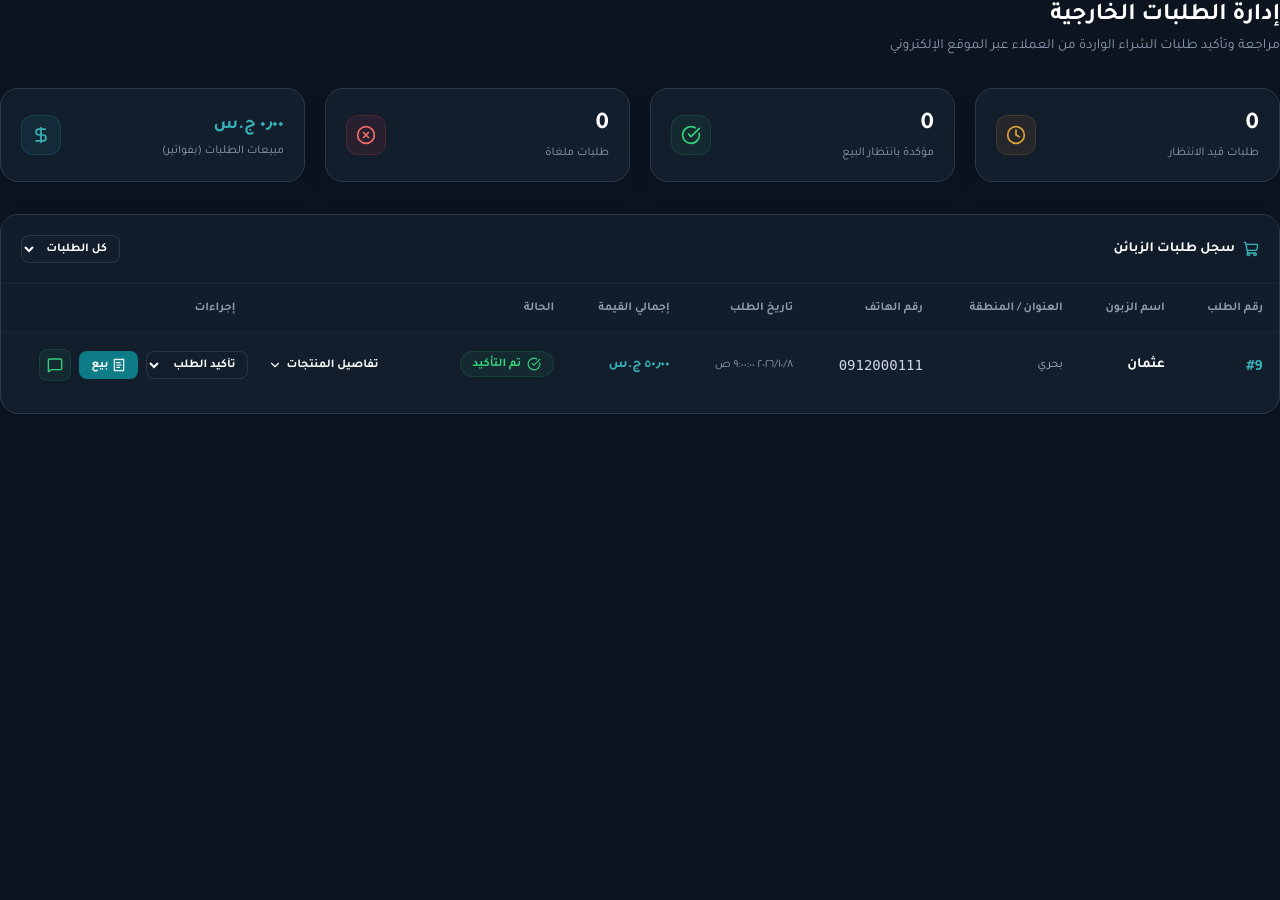
Test case: صفحة الطلبات الخارجية › رفض الخادم يظهر داخل النافذة ولا يغلق الطلب
The image size is (1280, 900).
Click the button "بيع". click: (109, 365)
box: [79,351,138,379]
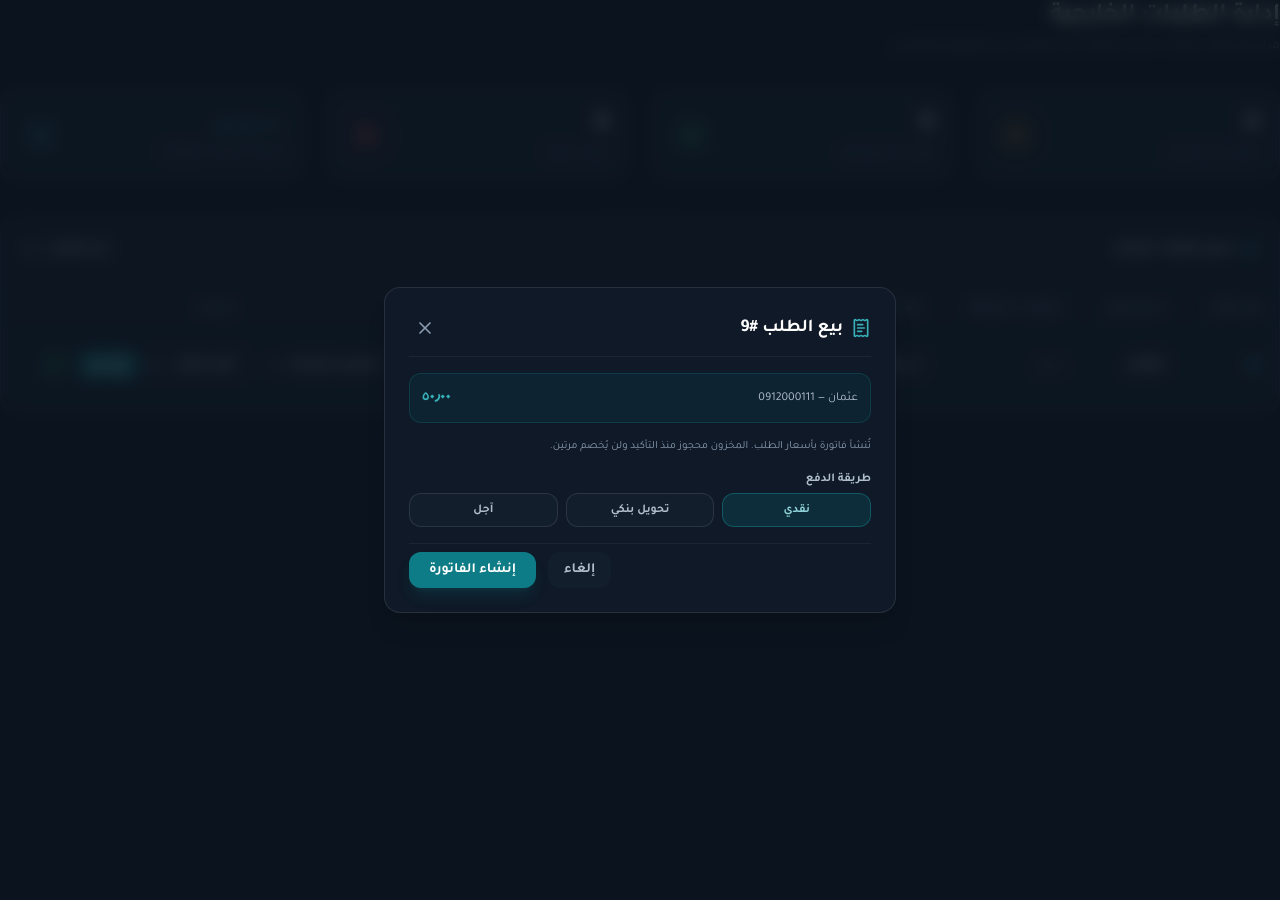
Click the radio button "آجل". click: (483, 510)
box: [409,493,558,527]
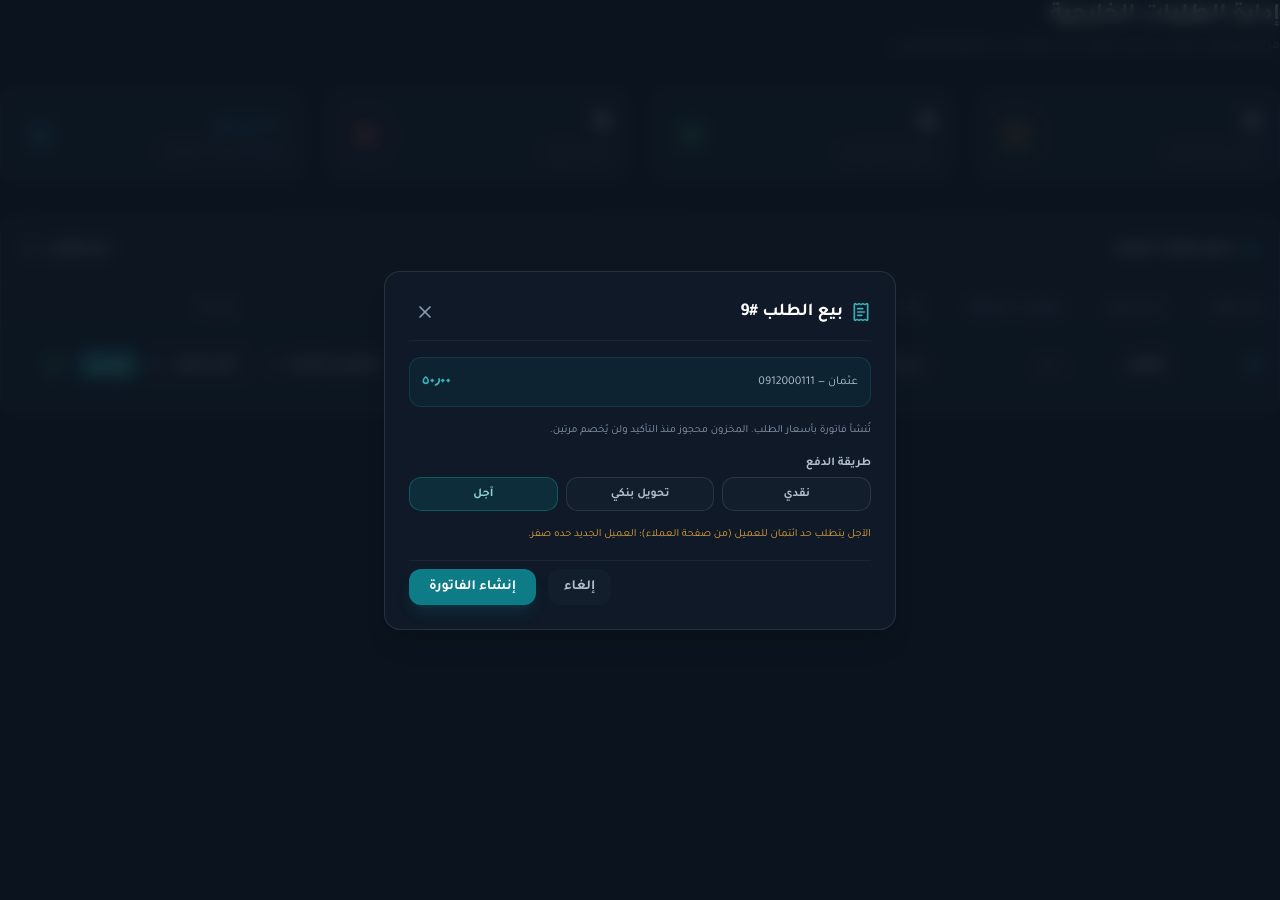
Click the button "إنشاء الفاتورة". click: (472, 586)
box: [409,568,536,604]
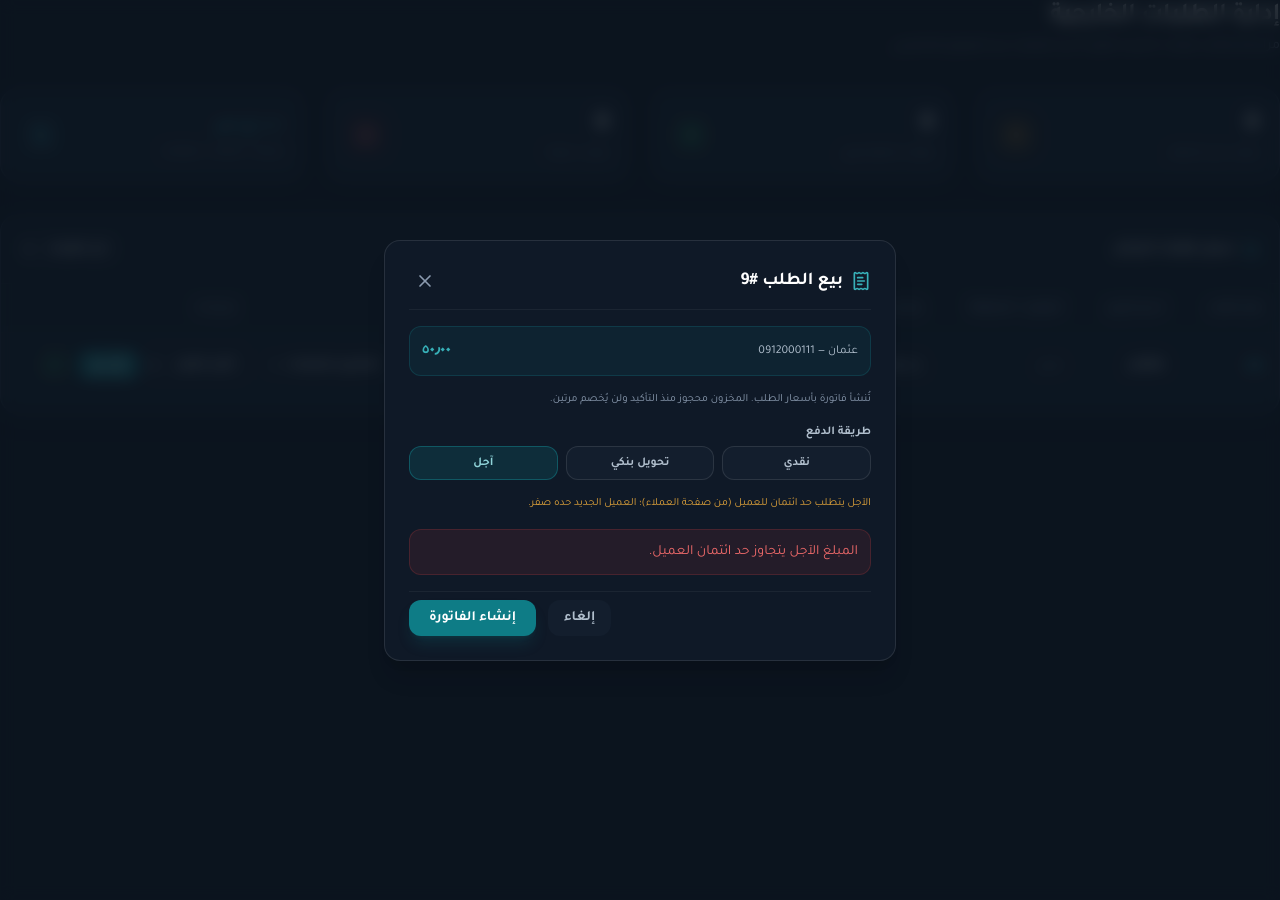
Now the message shows "يتجاوز حد ائتمان", box [649,544,858,558]
